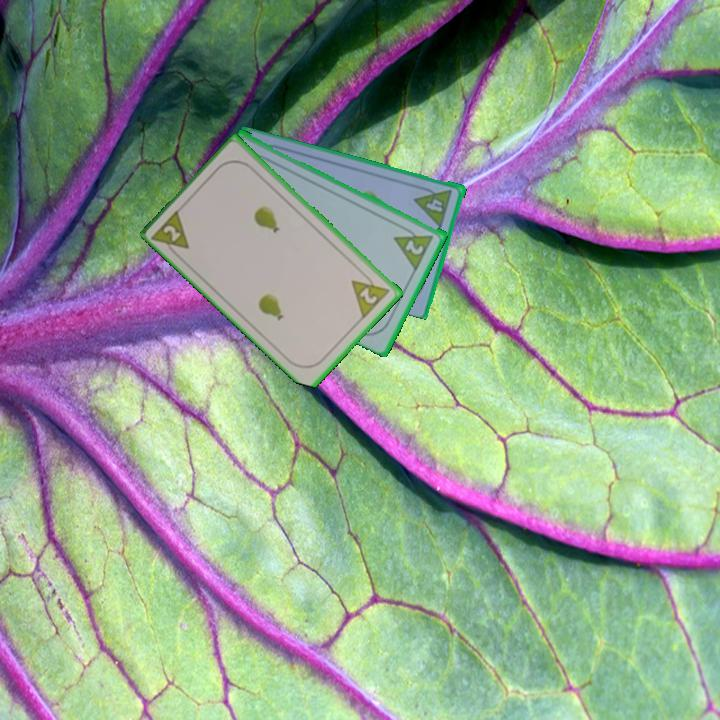2p: (348, 267, 393, 321), (149, 205, 193, 260), (402, 236, 427, 258)
4p: (412, 182, 456, 229)
